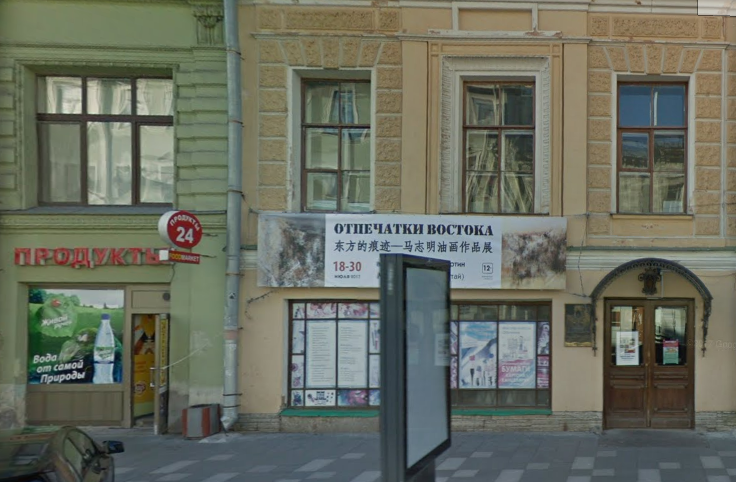cantilever: (154, 201, 218, 265)
door: (604, 303, 692, 426)
signboard: (12, 244, 165, 269)
window: (30, 71, 171, 204), (446, 300, 553, 410), (300, 77, 376, 211), (27, 285, 124, 387), (460, 76, 533, 211), (623, 78, 688, 223), (289, 302, 380, 405)
